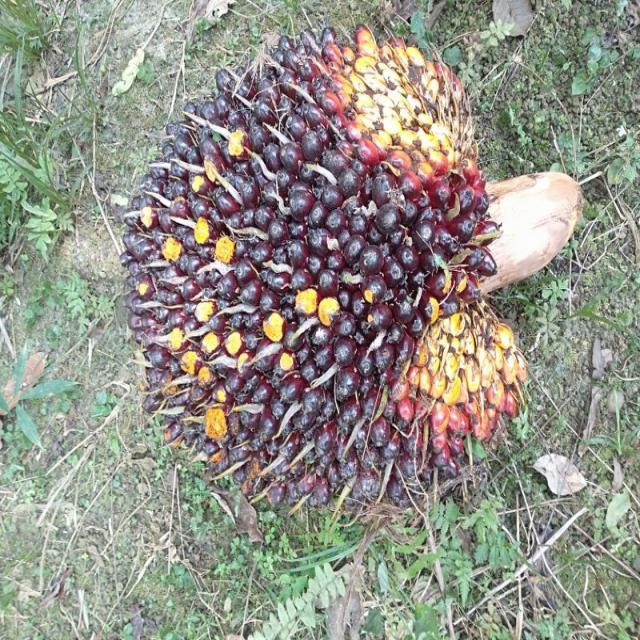fraksi 00: (115, 44, 536, 517)
